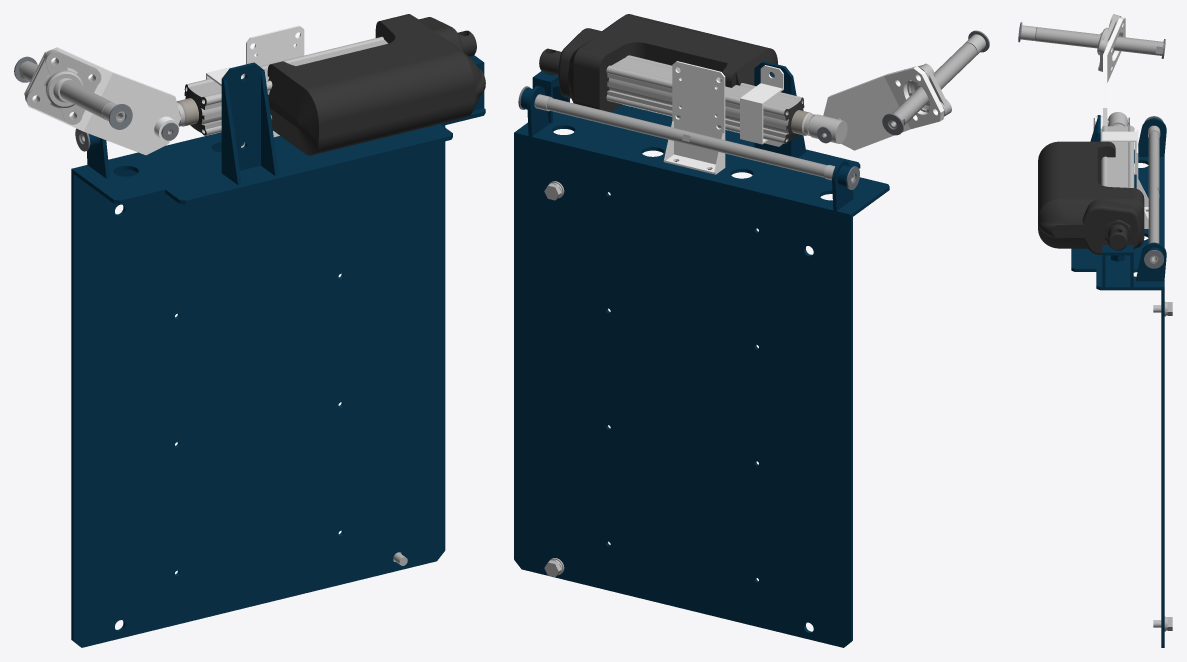
File: blade_base.dae
3 views of the same model, side by side, from view 1: azimuth 30°, elevation 25°; view 2: azimuth 150°, elevation 25°; view 3: azimuth 270°, elevation 25° (orthographic). The views are drawn at different scales.
Parts seen in each view (by area): view 1: Body_1, _3DGeom-330, Body_2, Body_14, _3DGeom-331, Body_4, Body_25; view 2: Body_1, _3DGeom-330, _3DGeom-331, Body_2, Body_4, Body_26, Body_3, Body_25, _3DGeom-346; view 3: _3DGeom-330, Body_1, Body_25, _3DGeom-331, Body_26, Body_2, Body_3, Body_14, Body_4, Body_9, _3DGeom-346.
Part boxes in pixels (bbox=[...]): Body_1: bbox=[71, 55, 485, 647]; _3DGeom-330: bbox=[184, 14, 485, 155]; Body_2: bbox=[24, 47, 180, 155]; Body_14: bbox=[25, 49, 101, 124]; _3DGeom-331: bbox=[185, 36, 387, 135]; Body_4: bbox=[246, 25, 304, 137]; Body_25: bbox=[19, 61, 125, 122]; Body_1: bbox=[514, 61, 889, 647]; _3DGeom-330: bbox=[539, 14, 804, 143]; _3DGeom-331: bbox=[606, 55, 803, 143]; Body_2: bbox=[823, 66, 944, 150]; Body_4: bbox=[663, 61, 725, 174]; Body_26: bbox=[535, 96, 855, 182]; Body_3: bbox=[740, 65, 783, 146]; Body_25: bbox=[889, 43, 976, 128]; _3DGeom-346: bbox=[802, 112, 847, 143]; _3DGeom-330: bbox=[1038, 141, 1144, 254]; Body_1: bbox=[1071, 115, 1166, 647]; Body_25: bbox=[1034, 27, 1163, 55]; _3DGeom-331: bbox=[1101, 125, 1134, 187]; Body_26: bbox=[1148, 131, 1159, 262]; Body_2: bbox=[1095, 17, 1125, 126]; Body_3: bbox=[1100, 117, 1136, 174]; Body_14: bbox=[1097, 14, 1121, 71]; Body_4: bbox=[1136, 130, 1148, 228]; Body_9: bbox=[1144, 250, 1163, 268]; _3DGeom-346: bbox=[1108, 112, 1127, 126].
Bounding box in the file's own units: 0.5489 × 0.2156 × 0.7393.
